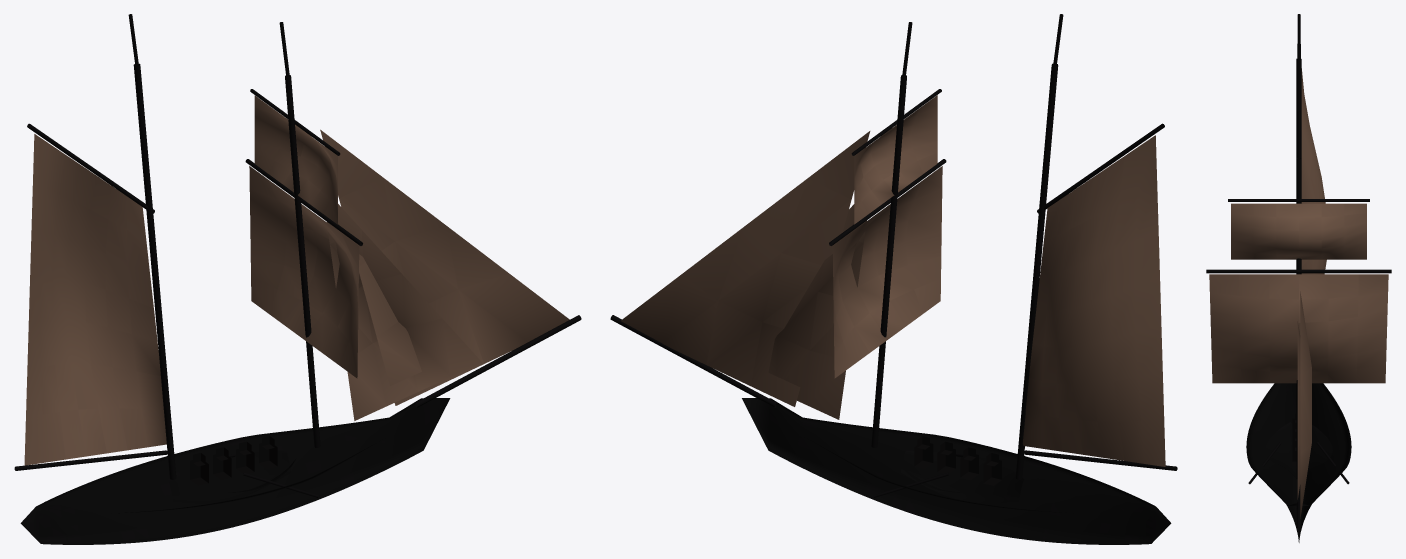
Rendered from sea_assets.glb.
The picture shows the model from 3 angles, left to right: view 1: azimuth 30°, elevation 25°; view 2: azimuth 150°, elevation 25°; view 3: azimuth 270°, elevation 25°; orthographic projection. The views are drawn at different scales.
Visible parts, largest first — view 1: Brig, Skiff; view 2: Brig, Skiff; view 3: Brig, Skiff.
Boxes of the visible parts, bbox=[...] form: Brig: bbox=[14, 14, 581, 544]; Skiff: bbox=[168, 436, 318, 503]; Brig: bbox=[610, 14, 1177, 544]; Skiff: bbox=[873, 436, 1023, 503]; Brig: bbox=[1206, 14, 1391, 542]; Skiff: bbox=[1248, 413, 1349, 484].
Size of the model in its own units: 17.23 by 15.66 by 6.
